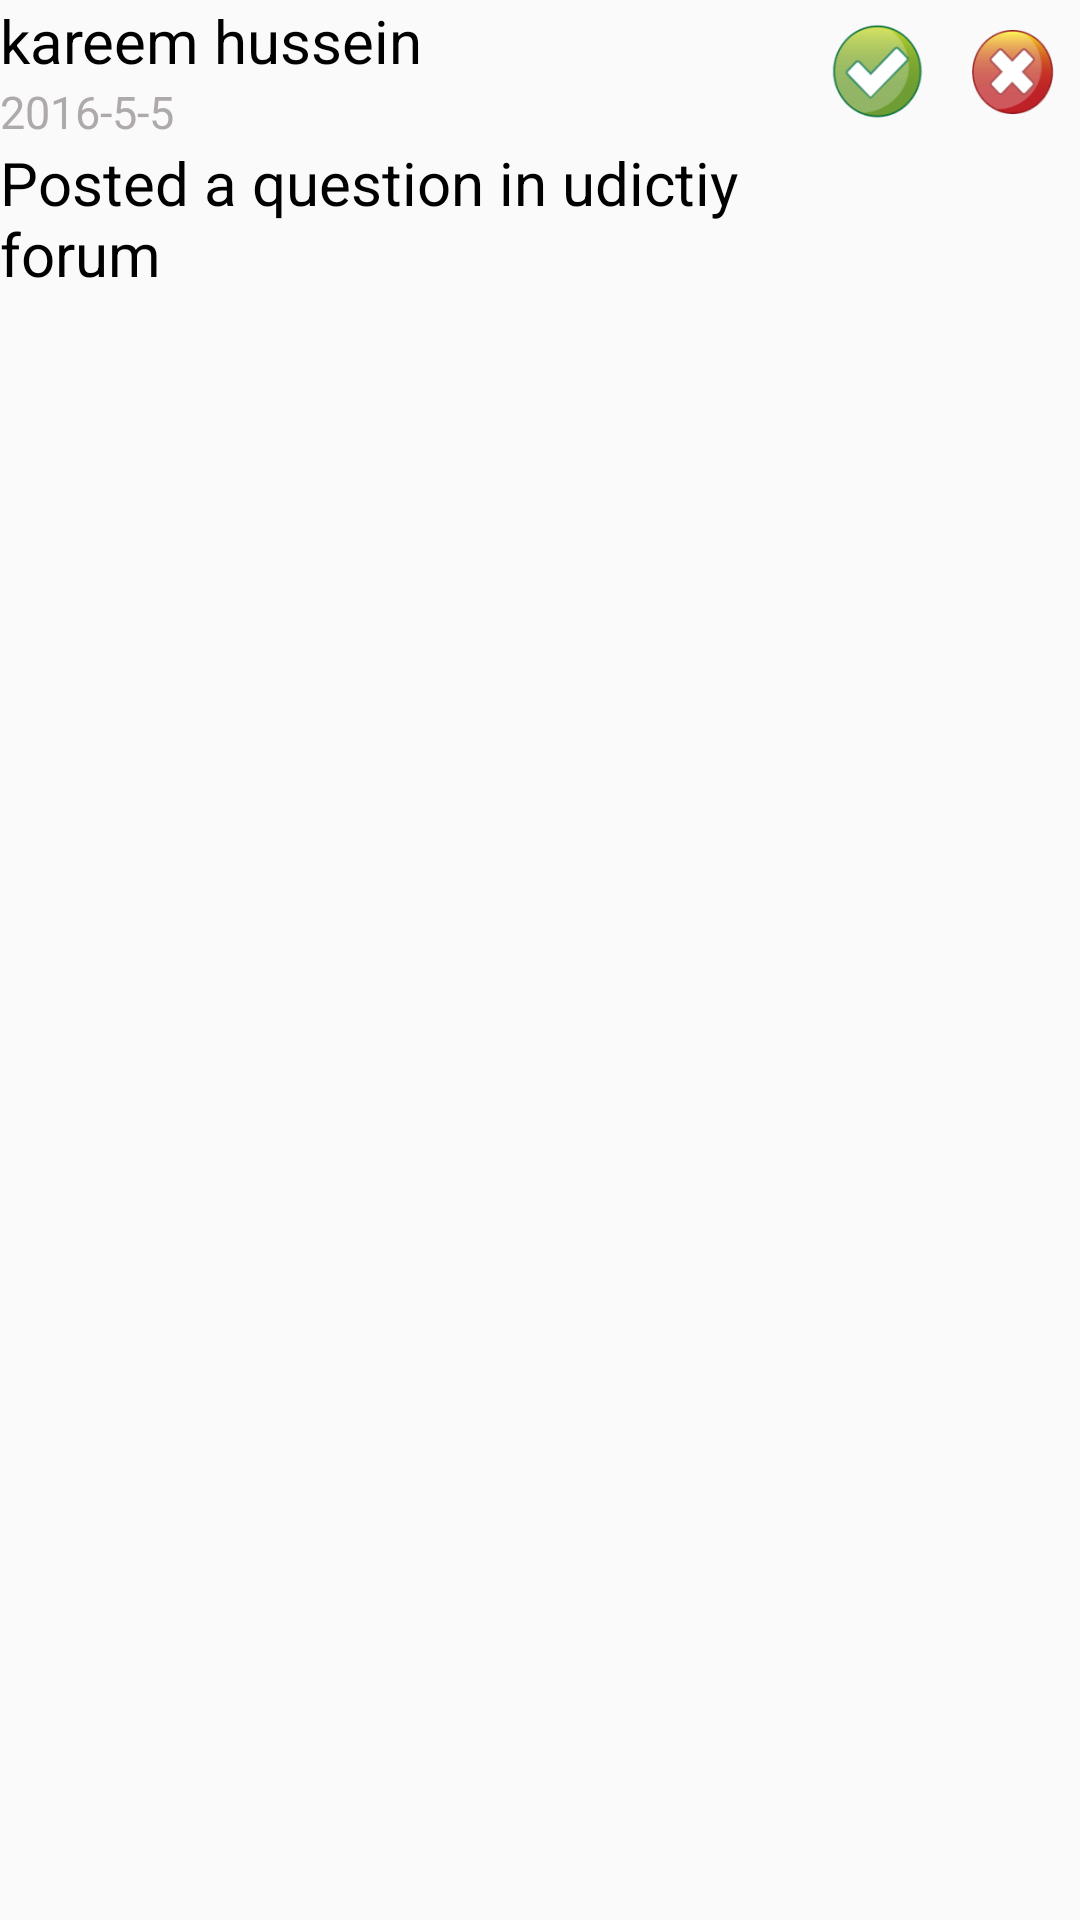

Screen size 1080px x 1920px. Icon name, then its center in pixels as (x=x, y=y):
approve: (x=877, y=71)
reject: (x=1013, y=72)
